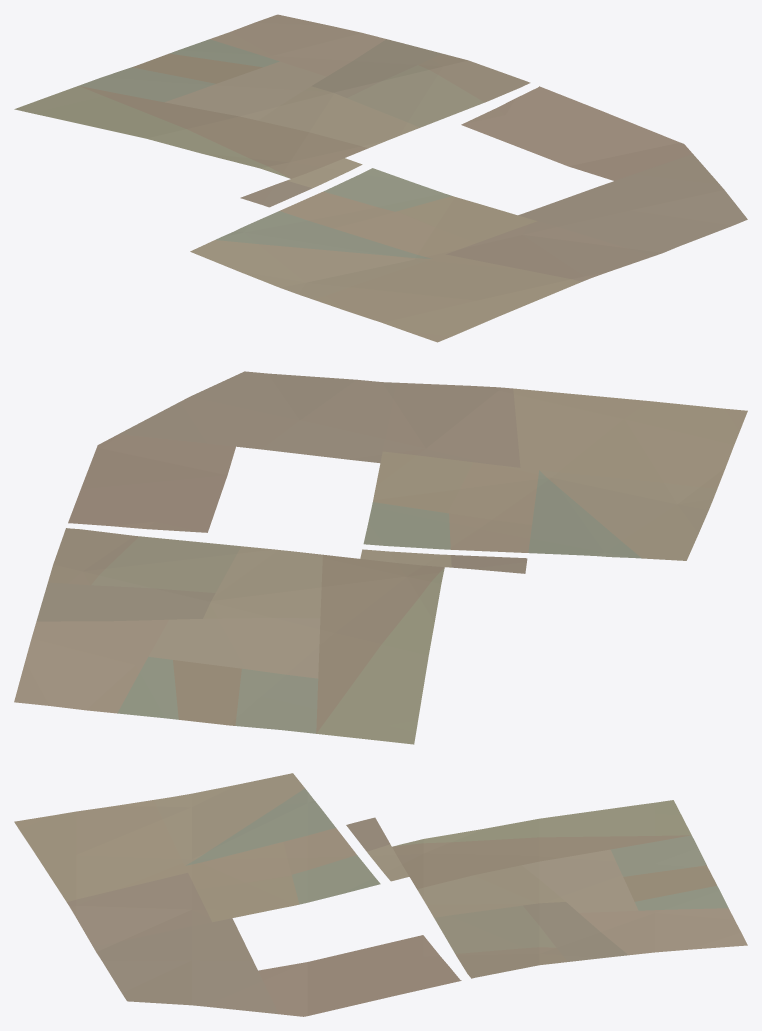
The model's file is farm_8_20_soil.glb.
3 renders of one model, top to bottom at view 1: azimuth 30°, elevation 25°; view 2: azimuth 150°, elevation 25°; view 3: azimuth 270°, elevation 25°, orthographic. The views are drawn at different scales.
Visible parts, largest first — view 1: geometry_0; view 2: geometry_0; view 3: geometry_0.
Boxes of the visible parts, left/top/right/bottom form: geometry_0: left=14, top=14, right=747, bottom=342; geometry_0: left=14, top=371, right=747, bottom=744; geometry_0: left=14, top=773, right=747, bottom=1016.
Bounding box in the file's own units: 371 × 16.47 × 507.
